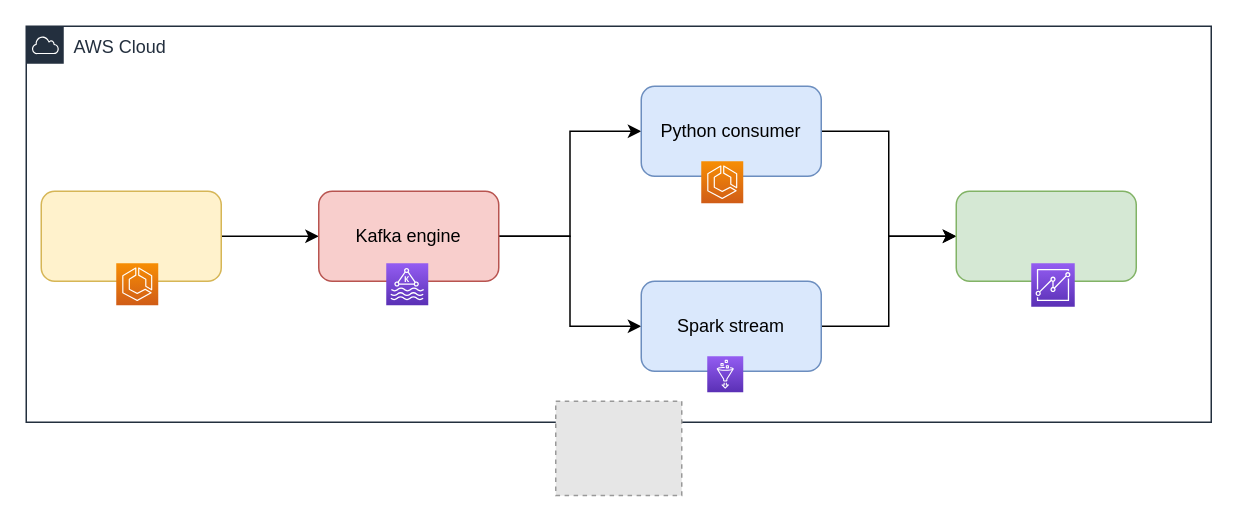
Some shapes in this 1238 by 522 pixel diagram are drawn without their labels. Grey dashed boxes stand in for pictures. Here are the shapes that lost their labels. From the top down, the centre of each, then its label:
the point at 130,235: Python Producer
the point at 1045,235: Console
